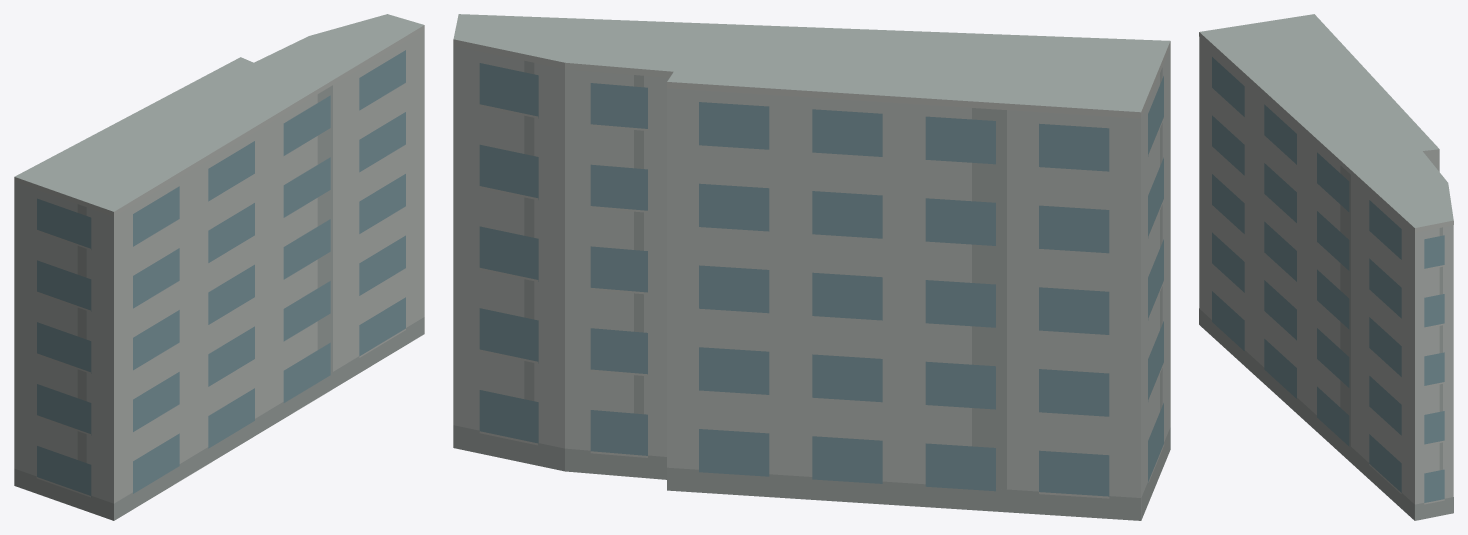
The model's file is survey-upis-32899803.glb.
3 renders of one model, left to right at view 1: azimuth 30°, elevation 25°; view 2: azimuth 150°, elevation 25°; view 3: azimuth 270°, elevation 25°, orthographic. The views are drawn at different scales.
Parts seen in each view (by area): view 1: survey-upis-32899803.tmp; view 2: survey-upis-32899803.tmp; view 3: survey-upis-32899803.tmp.
Part boxes in pixels (<box>): survey-upis-32899803.tmp: <box>14,14,424,520</box>; survey-upis-32899803.tmp: <box>453,14,1170,520</box>; survey-upis-32899803.tmp: <box>1199,14,1453,520</box>.
Size of the model in its own units: 23.93 by 15.25 by 12.03.
